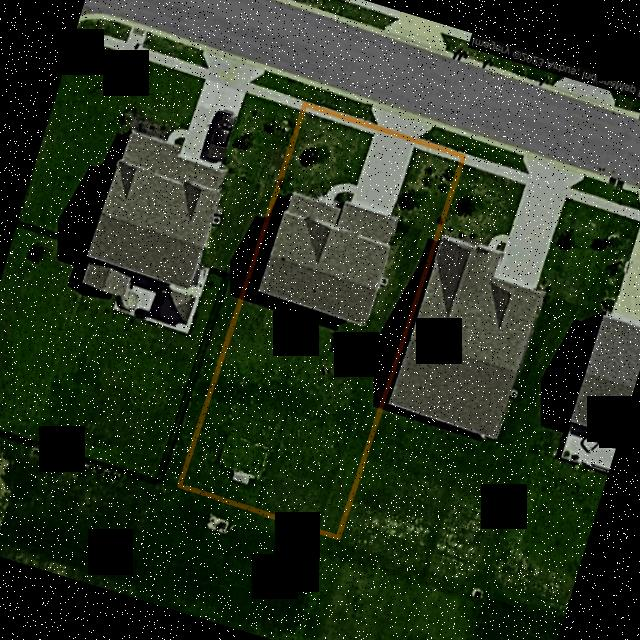Driveway: (350, 128, 414, 215)
Extra Driveway: (370, 105, 430, 136)
Extra Lawn: (303, 83, 376, 122), (417, 124, 469, 152)
House: (259, 192, 396, 323)
Other: (230, 469, 252, 483)
Sidewalk: (304, 106, 374, 133), (317, 181, 356, 205), (413, 141, 459, 160)
